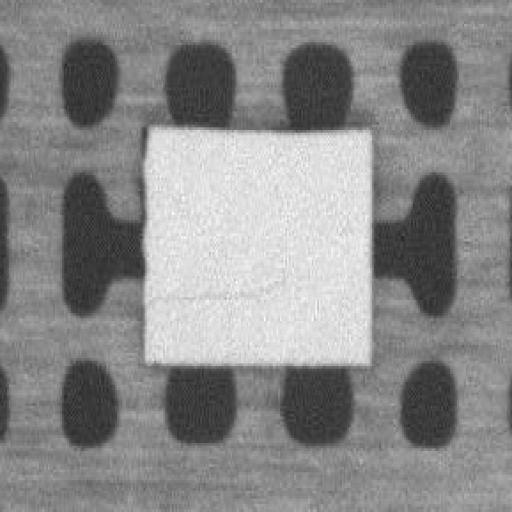DIE_CRACK: (144, 282, 284, 310)
